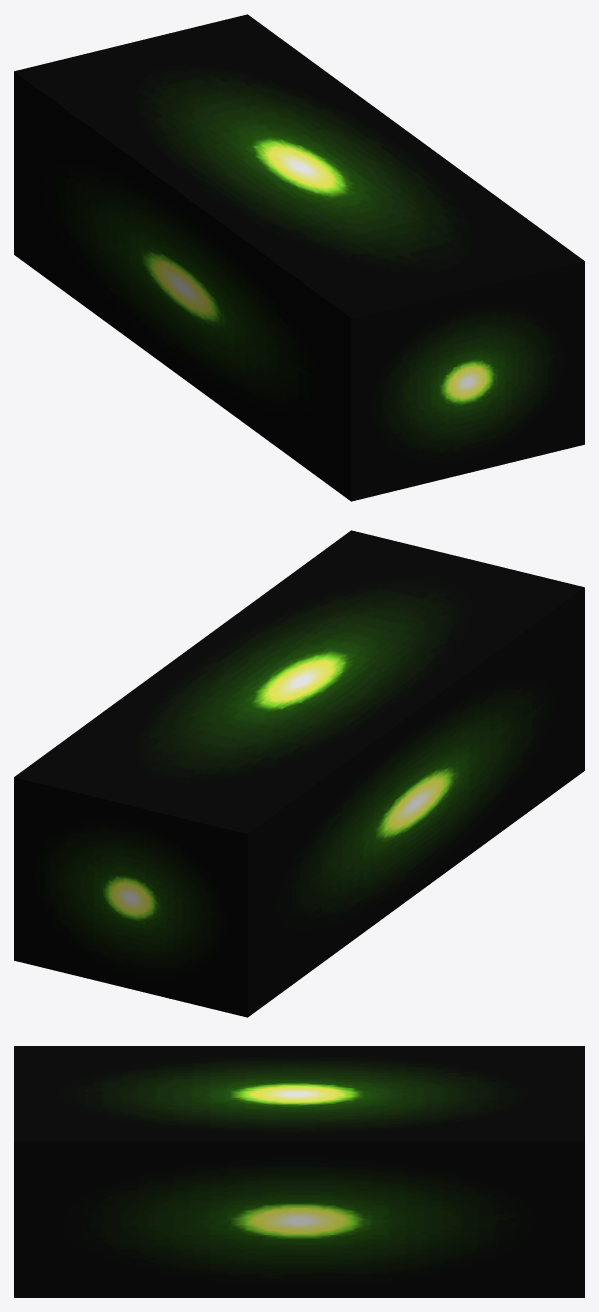
Rendered from 0466_xfk.glb.
3 renders of one model, top to bottom at view 1: azimuth 30°, elevation 25°; view 2: azimuth 150°, elevation 25°; view 3: azimuth 270°, elevation 25°, orthographic. The views are drawn at different scales.
Bounding box in the file's own units: 0.88 × 0.66 × 2.2.
Materials: 1 (1 with a texture image).
